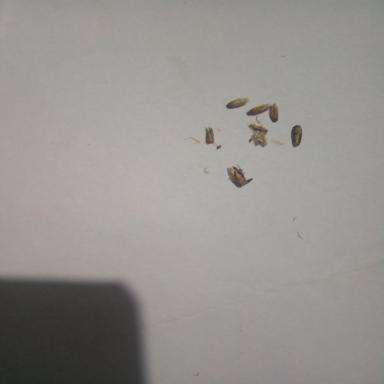pbw: (226, 163, 253, 187), (290, 124, 303, 148), (225, 96, 250, 108), (246, 103, 271, 115), (268, 102, 279, 123), (248, 123, 269, 133), (252, 133, 265, 147), (204, 126, 214, 144)
